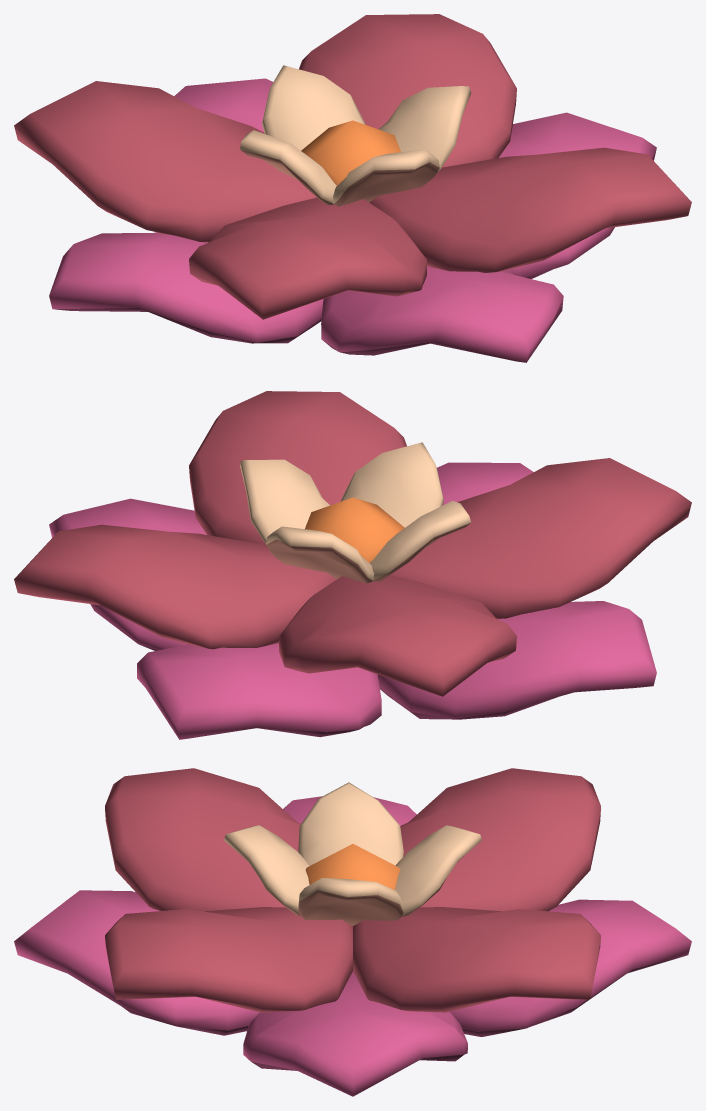
The model's file is Flower.fbx.
3 views of the same model, one above another, from view 1: azimuth 30°, elevation 25°; view 2: azimuth 150°, elevation 25°; view 3: azimuth 270°, elevation 25° (orthographic). The views are drawn at different scales.
Visible parts, largest first — view 1: Plane, Plane.001, Plane.002, Plane.003, Plane.004; view 2: Plane, Plane.001, Plane.002, Plane.003, Plane.004; view 3: Plane, Plane.001, Plane.003, Plane.002, Plane.004.
Boxes of the visible parts, bbox=[...] form: Plane: bbox=[14, 14, 691, 319]; Plane.001: bbox=[49, 78, 656, 362]; Plane.002: bbox=[262, 65, 439, 206]; Plane.003: bbox=[240, 86, 471, 205]; Plane.004: bbox=[301, 120, 400, 185]; Plane: bbox=[14, 391, 691, 696]; Plane.001: bbox=[49, 462, 656, 739]; Plane.002: bbox=[266, 442, 443, 583]; Plane.003: bbox=[240, 459, 471, 581]; Plane.004: bbox=[305, 497, 404, 562]; Plane: bbox=[105, 768, 600, 1012]; Plane.001: bbox=[14, 796, 691, 1096]; Plane.003: bbox=[298, 782, 403, 925]; Plane.002: bbox=[224, 825, 481, 916]; Plane.004: bbox=[305, 844, 400, 889].
Bounding box in the file's own units: 5.23 × 1.43 × 5.23.
1 material, 1 textured.
